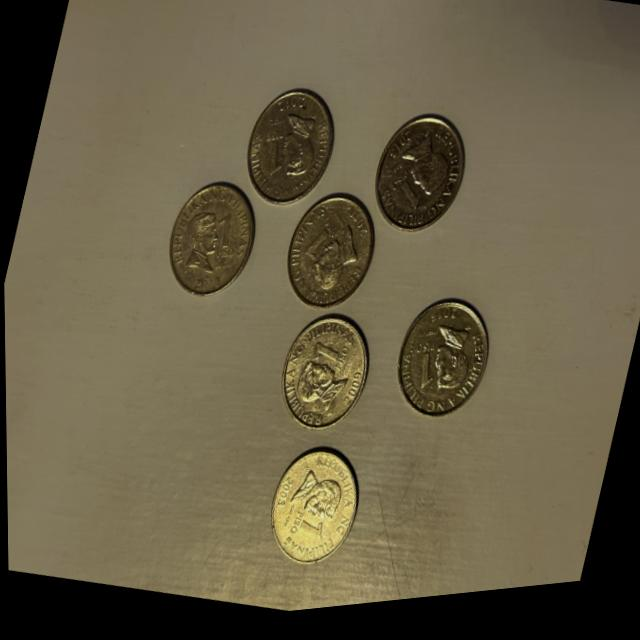1_Old_Front: (294, 210, 346, 278), (282, 502, 334, 557), (383, 169, 432, 227), (403, 338, 446, 401), (307, 336, 354, 388), (257, 126, 296, 185), (208, 206, 244, 265)
